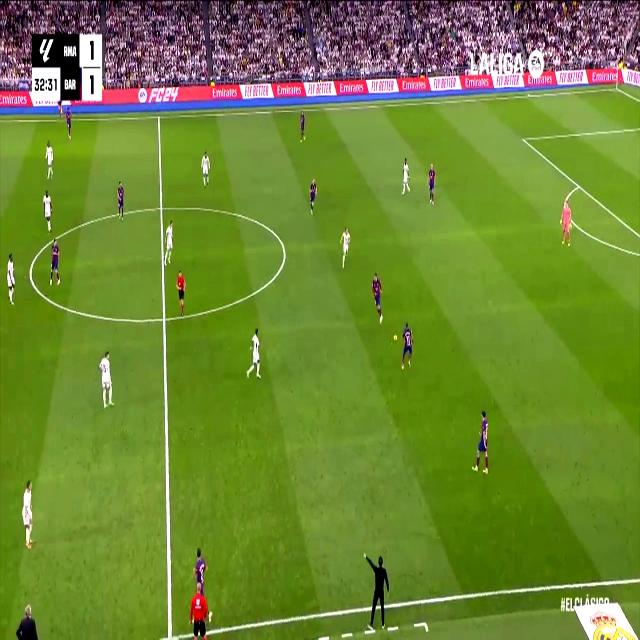bigarea_top_inner: (520, 131, 526, 146)
corner: (612, 83, 620, 93)
halfcircle_bottom: (158, 305, 170, 331)
halfcircle_top: (156, 196, 166, 218)
midline_top_intersection: (156, 110, 162, 124)
top_arc_area_intersection: (575, 178, 582, 192)
